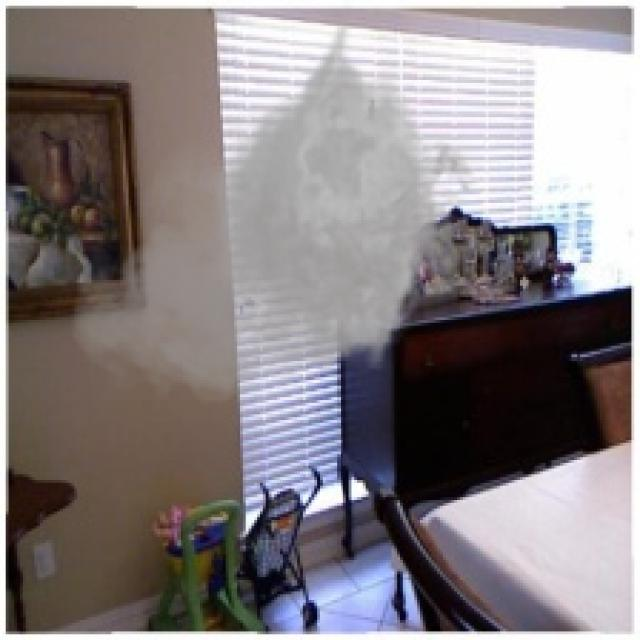smoke: (65, 0, 489, 415)
